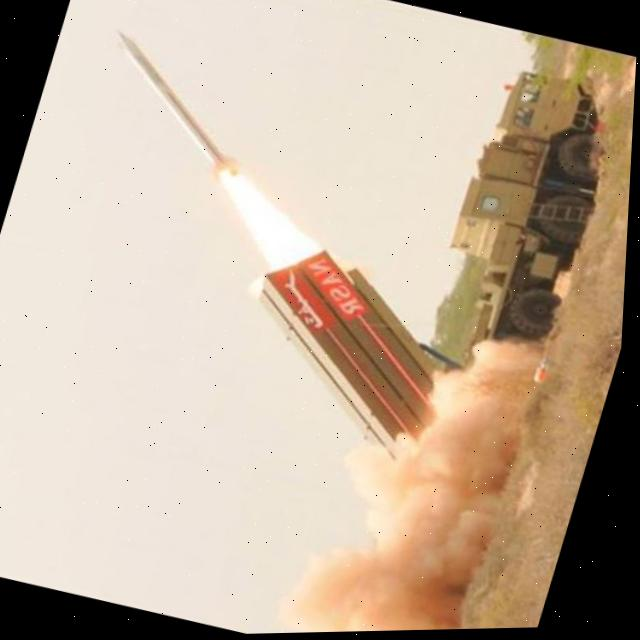missile: (77, 20, 275, 180)
